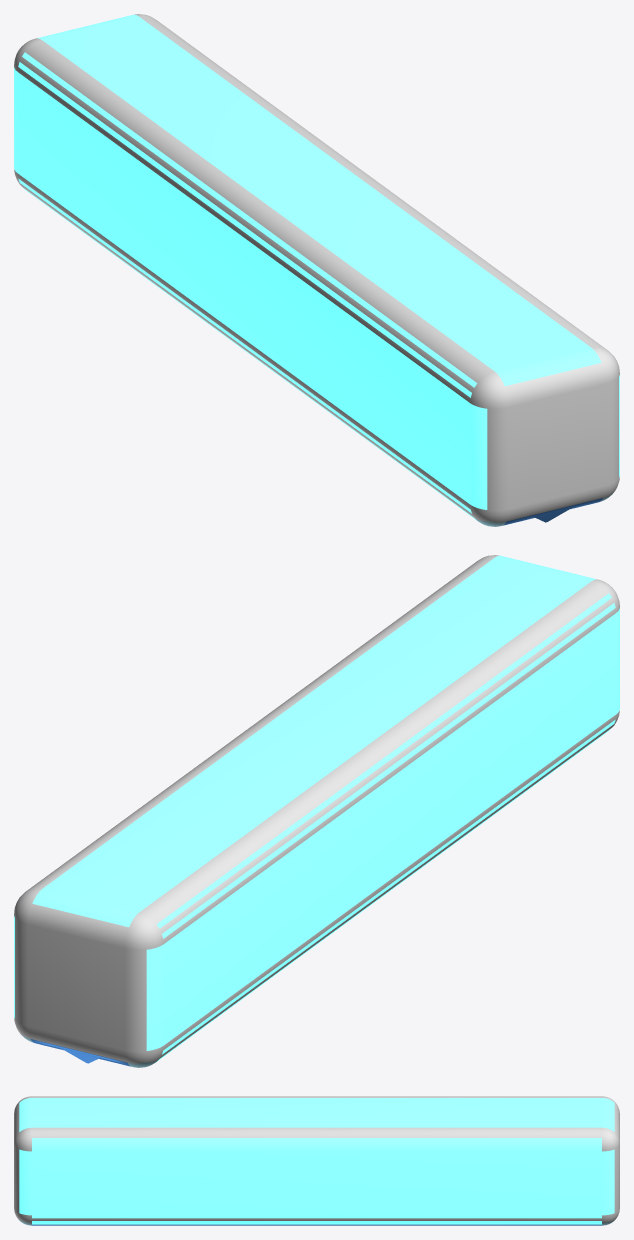
File: trainbodycollision.glb
The picture shows the model from 3 angles, top to bottom: view 1: azimuth 30°, elevation 25°; view 2: azimuth 150°, elevation 25°; view 3: azimuth 270°, elevation 25°; orthographic projection. The views are drawn at different scales.
Parts seen in each view (by area): view 1: trainbodycollision; view 2: trainbodycollision; view 3: trainbodycollision.
Boxes of the visible parts, left/top/right/bottom form: trainbodycollision: left=14, top=14, right=619, bottom=526; trainbodycollision: left=14, top=555, right=619, bottom=1067; trainbodycollision: left=14, top=1096, right=619, bottom=1225.
Size of the model in its own units: 2853 by 2992 by 16273.
